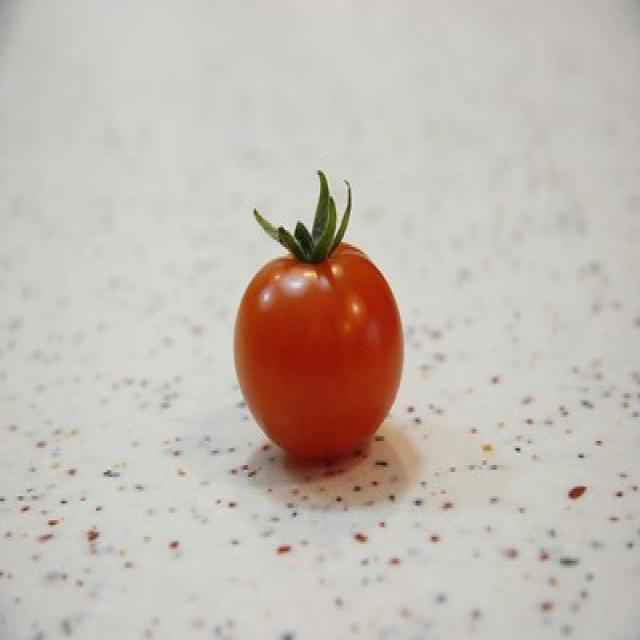kirmizi: (232, 192, 422, 474)
